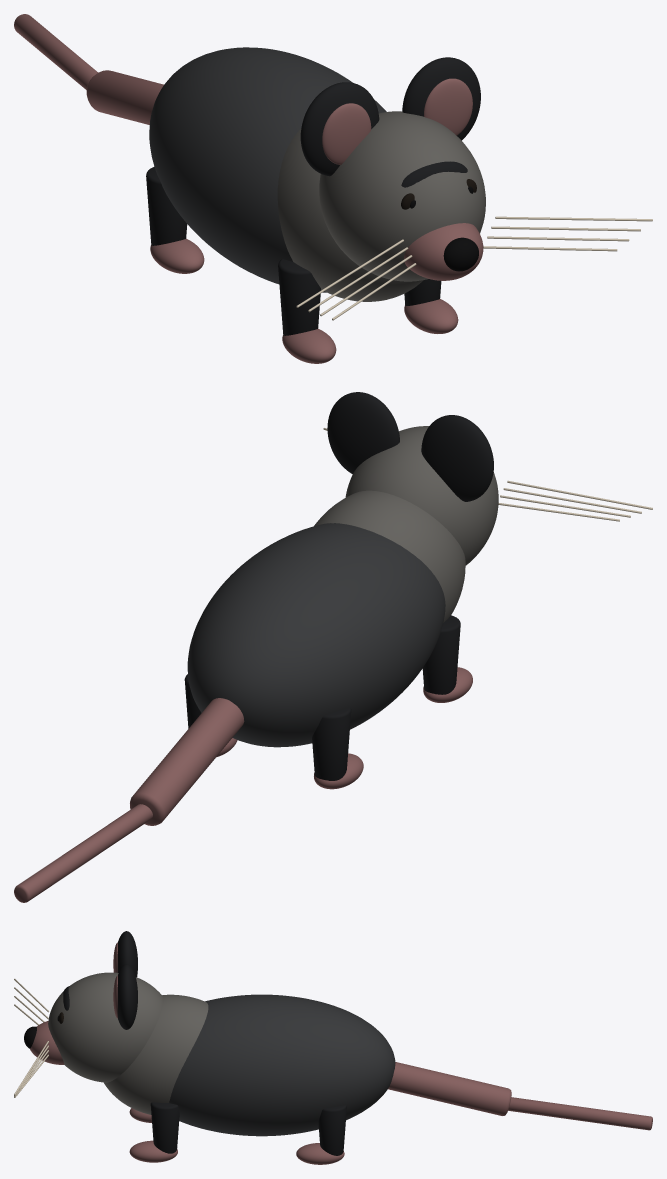
The model's file is forest-rat.glb.
3 renders of one model, top to bottom at view 1: azimuth 30°, elevation 25°; view 2: azimuth 150°, elevation 25°; view 3: azimuth 270°, elevation 25°, orthographic. The views are drawn at different scales.
Visible parts, largest first — view 1: RatBody, RatHead, RatChest, RatLeftEarOuter, RatTailBase, RatMuzzle, RatFrontLeftLeg, RatRightEarOuter, RatLeftEarInner, RatTailTip, RatRightEarInner, RatBackLeftLeg (+6 smaller); view 2: RatBody, RatHead, RatChest, RatTailBase, RatLeftEarOuter, RatRightEarOuter, RatTailTip, RatBackLeftLeg, RatFrontLeftLeg; view 3: RatBody, RatHead, RatChest, RatTailBase, RatTailTip, RatFrontRightLeg, RatBackRightLeg, RatRightEarOuter, RatMuzzle, RatLeftEarOuter, RatFrontRightPaw, RatBackRightPaw.
Part boxes in pixels (bbox=[...]): RatBody: bbox=[149, 47, 386, 292]; RatHead: bbox=[319, 111, 485, 281]; RatChest: bbox=[277, 128, 423, 301]; RatLeftEarOuter: bbox=[300, 82, 379, 176]; RatTailBase: bbox=[86, 70, 163, 124]; RatMuzzle: bbox=[404, 223, 483, 280]; RatFrontLeftLeg: bbox=[278, 259, 320, 335]; RatRightEarOuter: bbox=[402, 57, 480, 140]; RatLeftEarInner: bbox=[322, 103, 371, 164]; RatTailTip: bbox=[14, 14, 97, 89]; RatRightEarInner: bbox=[424, 78, 472, 135]; RatBackLeftLeg: bbox=[146, 166, 187, 245]; RatBody: bbox=[187, 523, 445, 747]; RatHead: bbox=[345, 426, 498, 565]; RatChest: bbox=[314, 490, 465, 622]; RatTailBase: bbox=[130, 698, 244, 825]; RatLeftEarOuter: bbox=[421, 415, 493, 501]; RatRightEarOuter: bbox=[327, 392, 399, 474]; RatTailTip: bbox=[14, 804, 152, 902]; RatBackLeftLeg: bbox=[312, 707, 351, 780]; RatFrontLeftLeg: bbox=[422, 615, 460, 694]; RatBody: bbox=[169, 994, 395, 1136]; RatHead: bbox=[48, 972, 163, 1082]; RatChest: bbox=[103, 994, 208, 1114]; RatTailBase: bbox=[388, 1062, 511, 1115]; RatTailTip: bbox=[508, 1097, 652, 1130]; RatFrontRightLeg: bbox=[150, 1102, 179, 1153]; RatBackRightLeg: bbox=[318, 1105, 346, 1155]; RatRightEarOuter: bbox=[117, 964, 137, 1029]; RatMuzzle: bbox=[30, 1021, 64, 1064]; RatLeftEarOuter: bbox=[117, 931, 137, 977]; RatFrontRightPaw: bbox=[129, 1140, 177, 1162]; RatBackRightPaw: bbox=[296, 1143, 344, 1164].
Bounding box in the file's own units: 1.05 × 0.8095 × 2.46.
